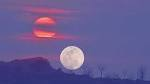moon: (59, 44, 85, 71)
